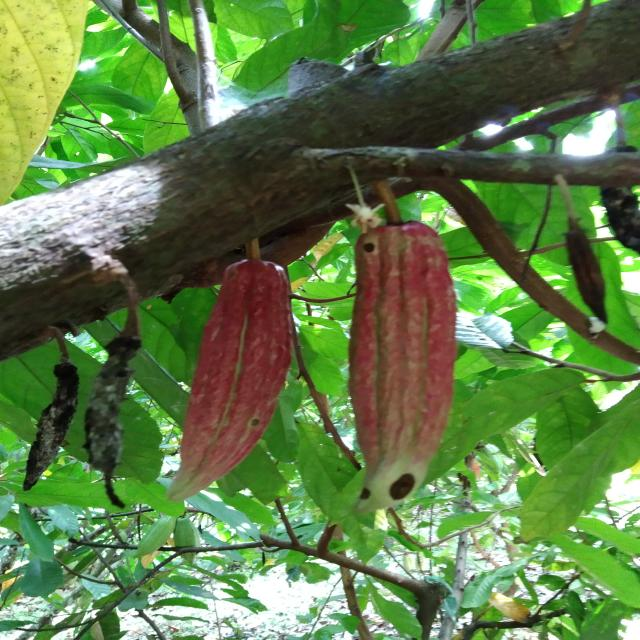Fitoftora: (351, 217, 456, 512)
Monilia: (82, 336, 141, 470), (18, 365, 79, 492)
Sana: (164, 259, 292, 502)
